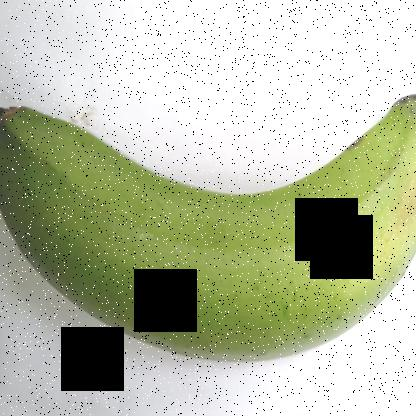freshunripe: (1, 41, 415, 386)
